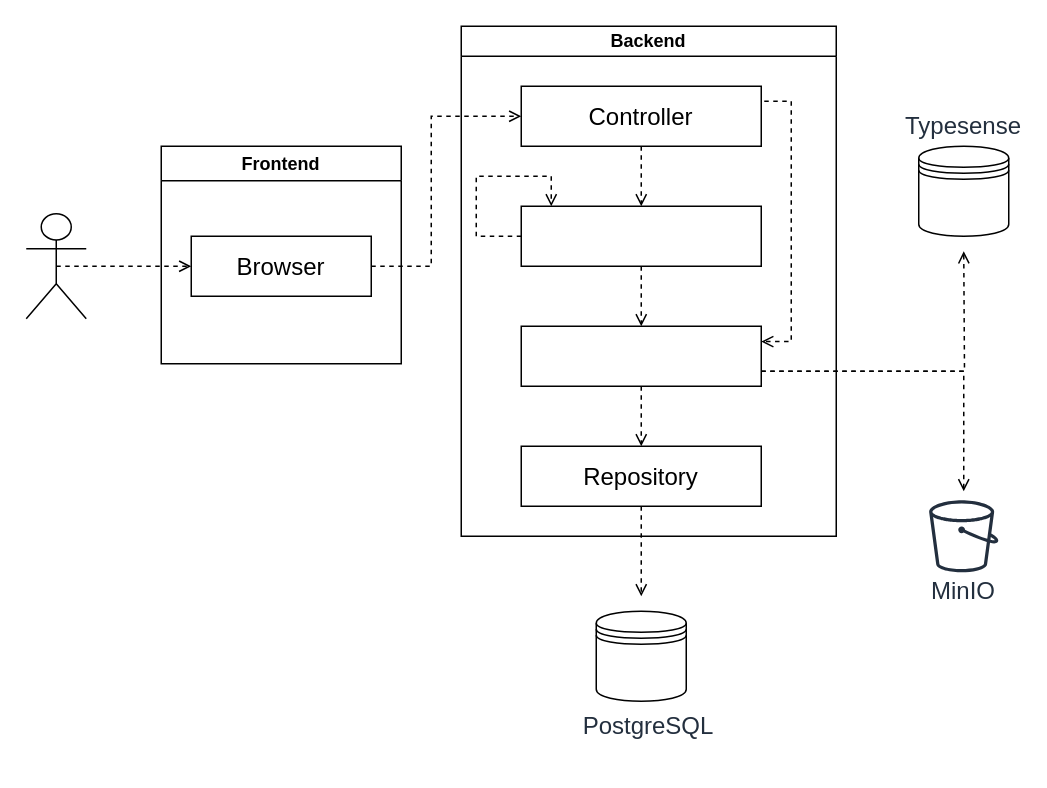
Some shapes in this 1047 by 788 pixel diagram are drawn without their labels. The shapes that lost their labels are listed below. From the top down, each one's centre as x and y in pixels, then its label:
At point (640, 235): "Facade".
At point (640, 355): "Service".
